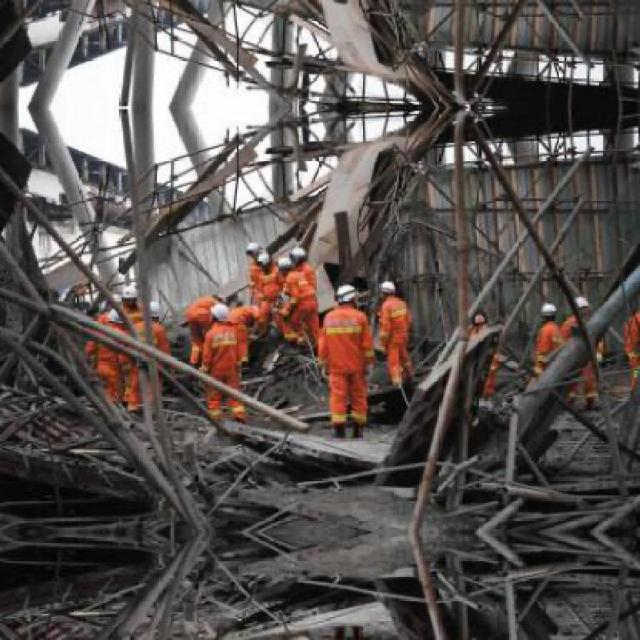helmet: (337, 280, 358, 309), (145, 294, 163, 324), (572, 289, 591, 317), (120, 277, 137, 308), (208, 303, 229, 326), (243, 235, 263, 257), (291, 242, 309, 266), (380, 275, 397, 300), (540, 300, 558, 323), (278, 254, 294, 277)
